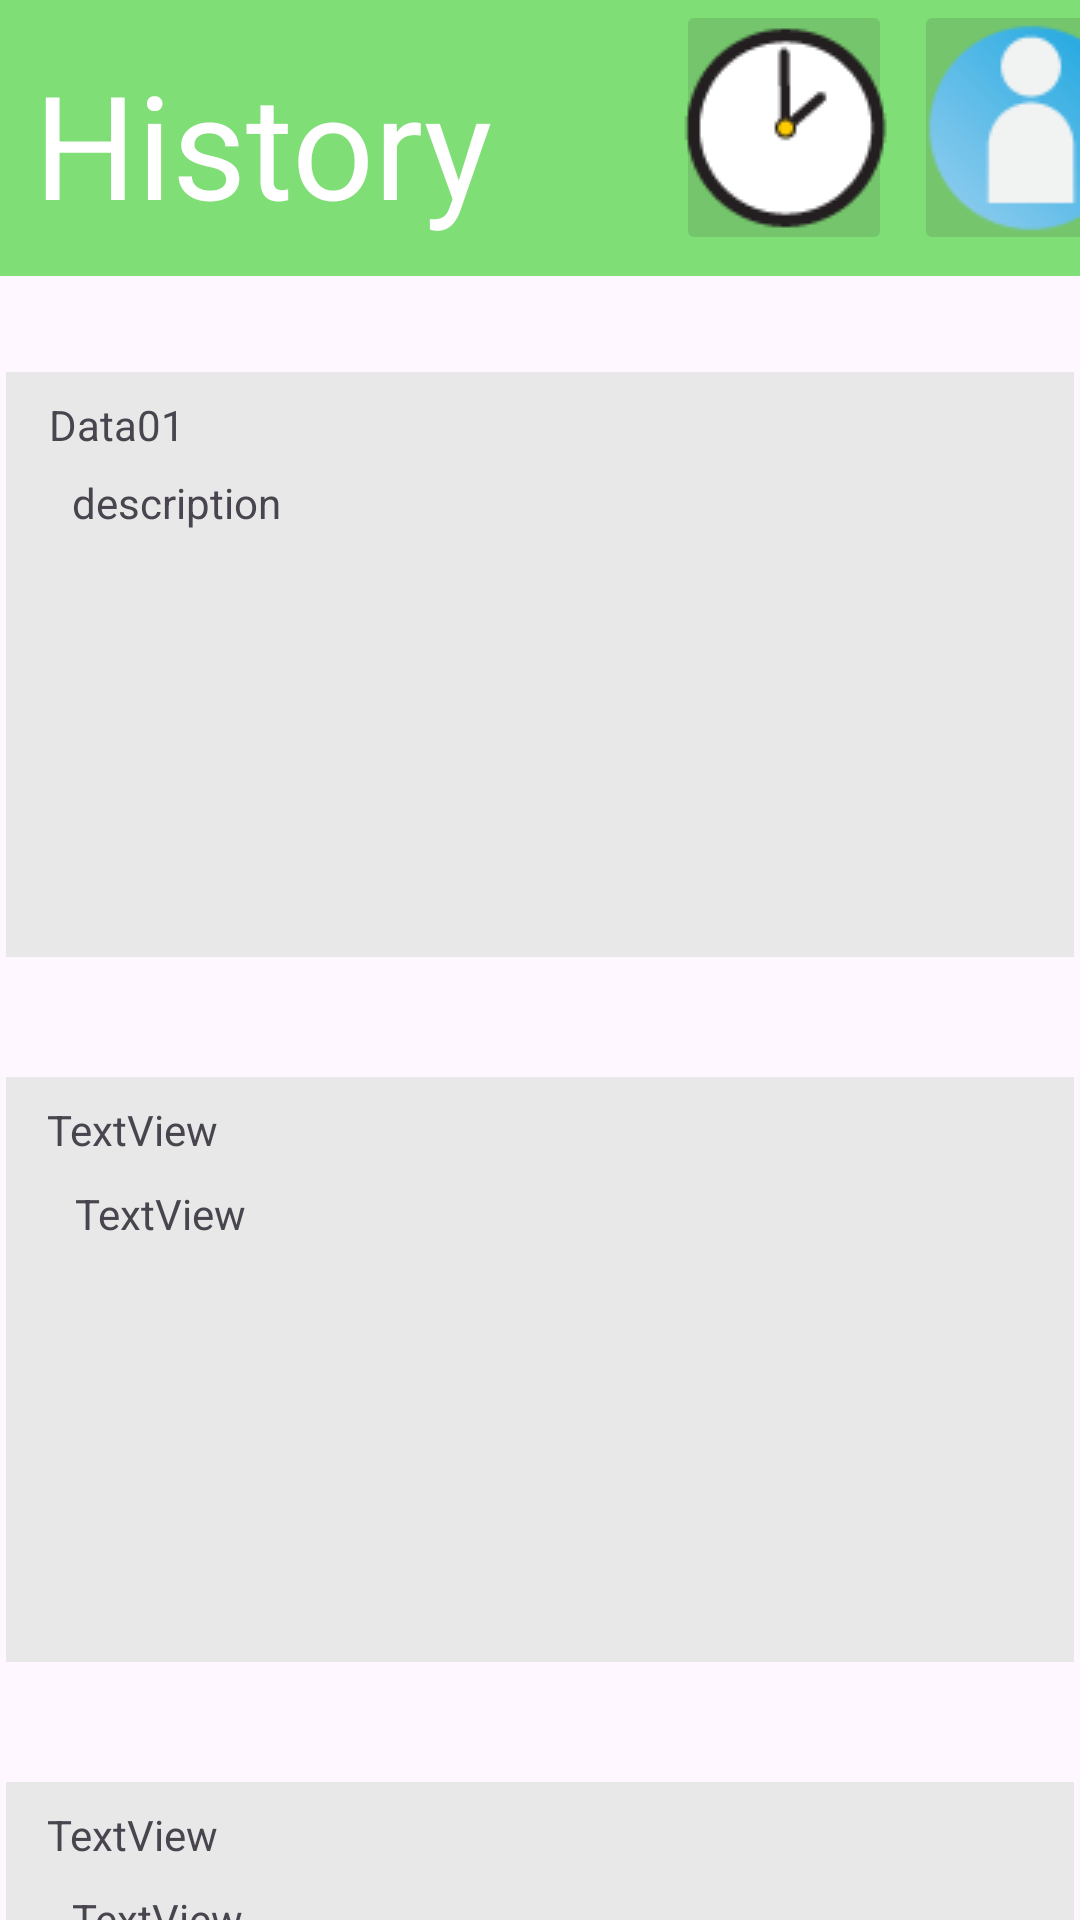

Icon click points for this 1080px×1920px phone screenshot, format (x,y):
historybuttonicon: (786,127)
